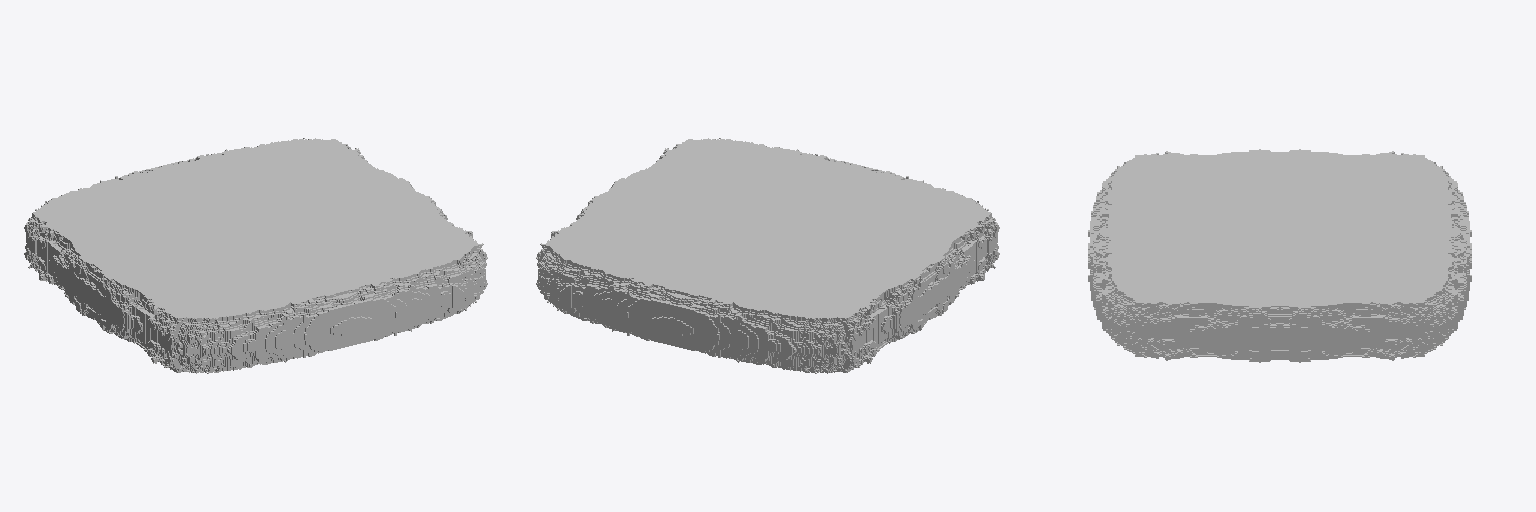
Rendered from Cloud Pedestal-3.obj.
3 renders of one model, left to right at view 1: azimuth 30°, elevation 25°; view 2: azimuth 150°, elevation 25°; view 3: azimuth 270°, elevation 25°, orthographic.
Visible parts, largest first — view 1: object 1; view 2: object 1; view 3: object 1.
Part boxes in pixels (x1,y1,x2,y2): object 1: (24, 138, 487, 373); object 1: (536, 138, 999, 373); object 1: (1088, 149, 1471, 362).
Size of the model in its own units: 25.6 by 4 by 25.6.